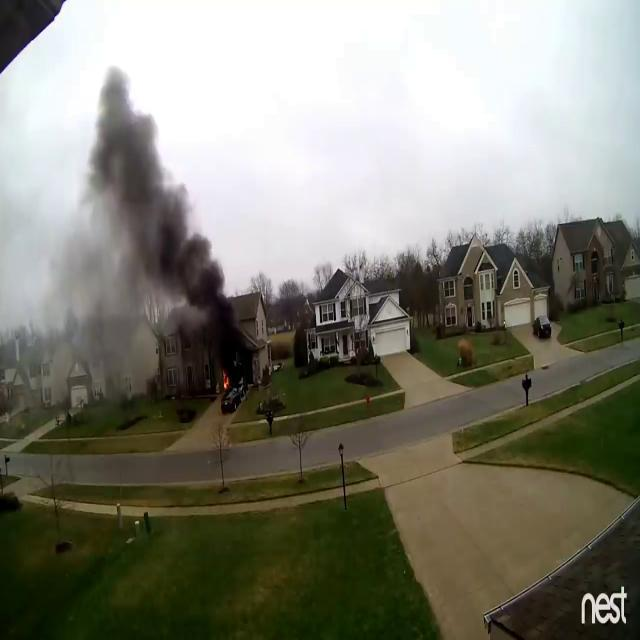Fire: (221, 371, 232, 392)
Smoke: (43, 212, 160, 384), (91, 80, 190, 265), (172, 210, 246, 362)
